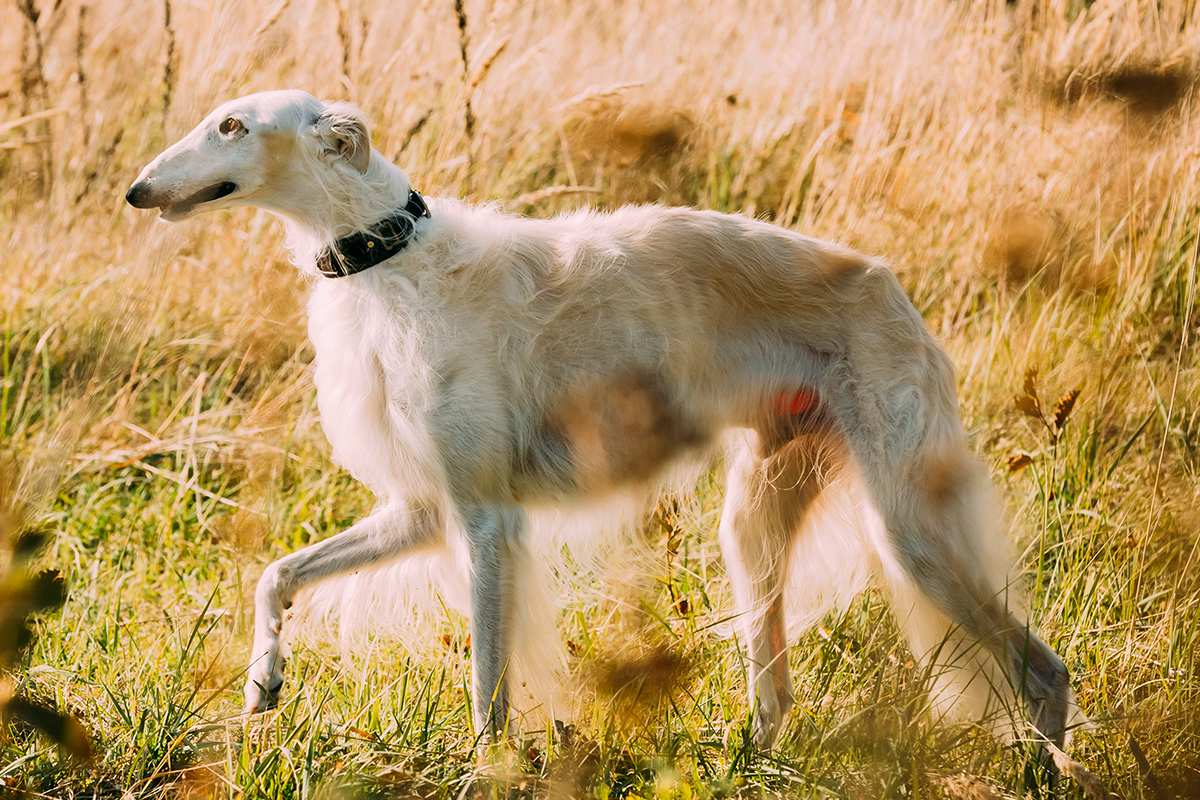borzoi: (94, 85, 1118, 790)
